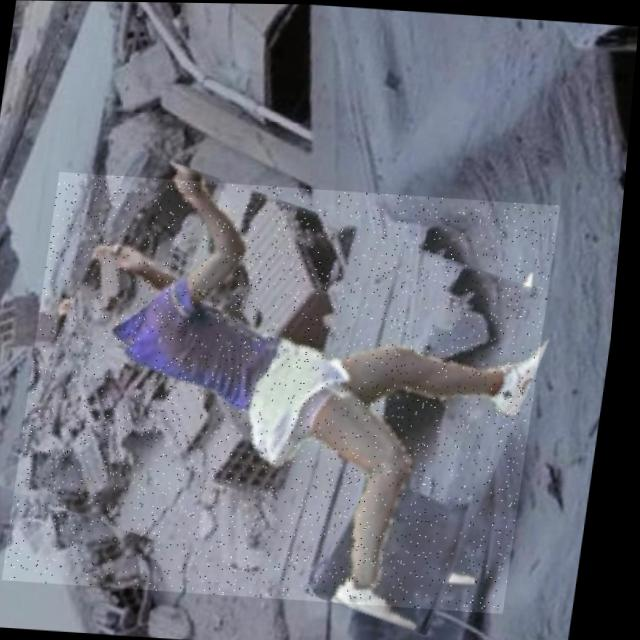Person in Rubble: (11, 171, 566, 612)
